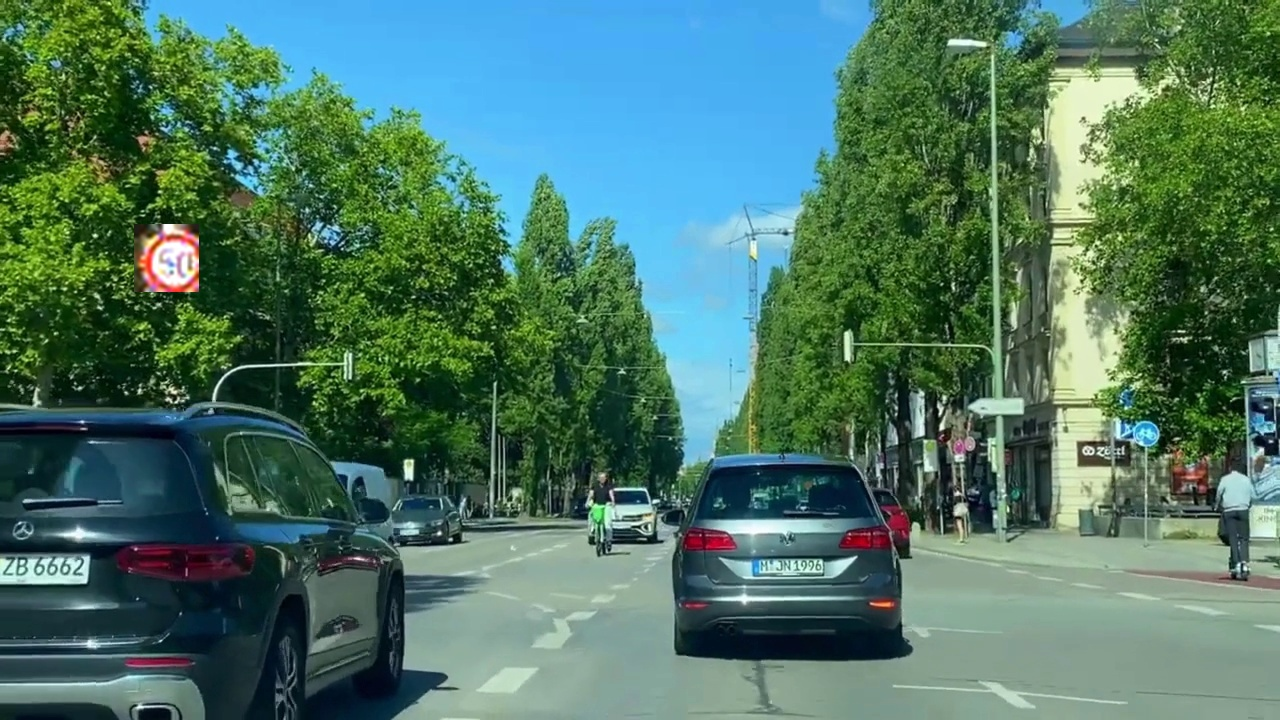Speed 50: (134, 224, 199, 292)
